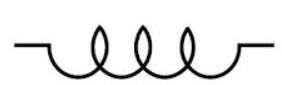inductor: (40, 22, 247, 79)
